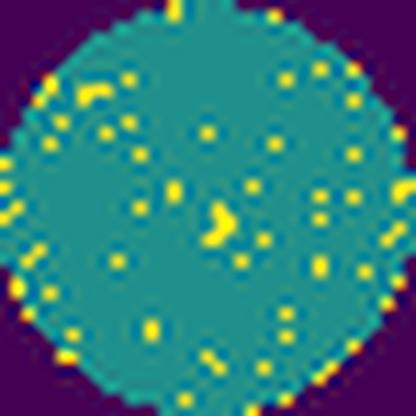Center: (201, 200, 245, 247)
